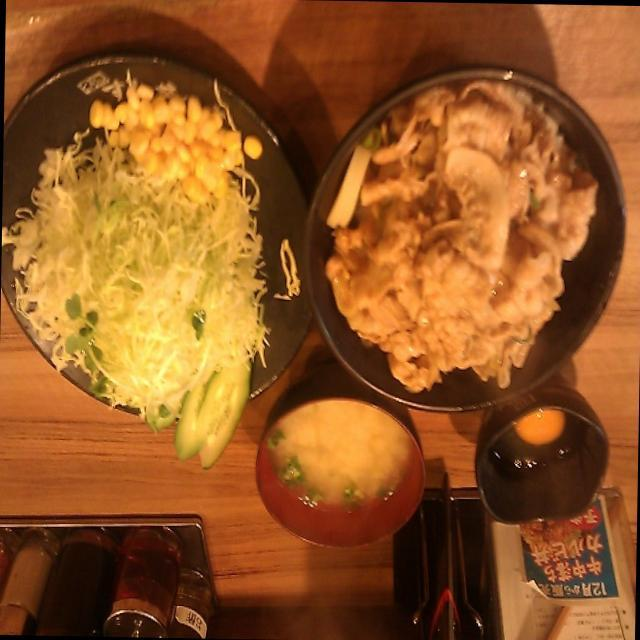Green Salad: (13, 115, 279, 448)
